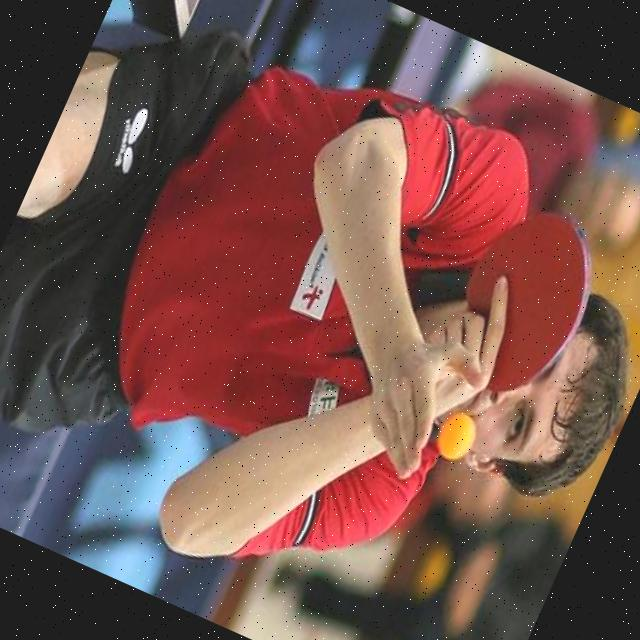ping-pong-ball: (431, 406, 485, 464)
